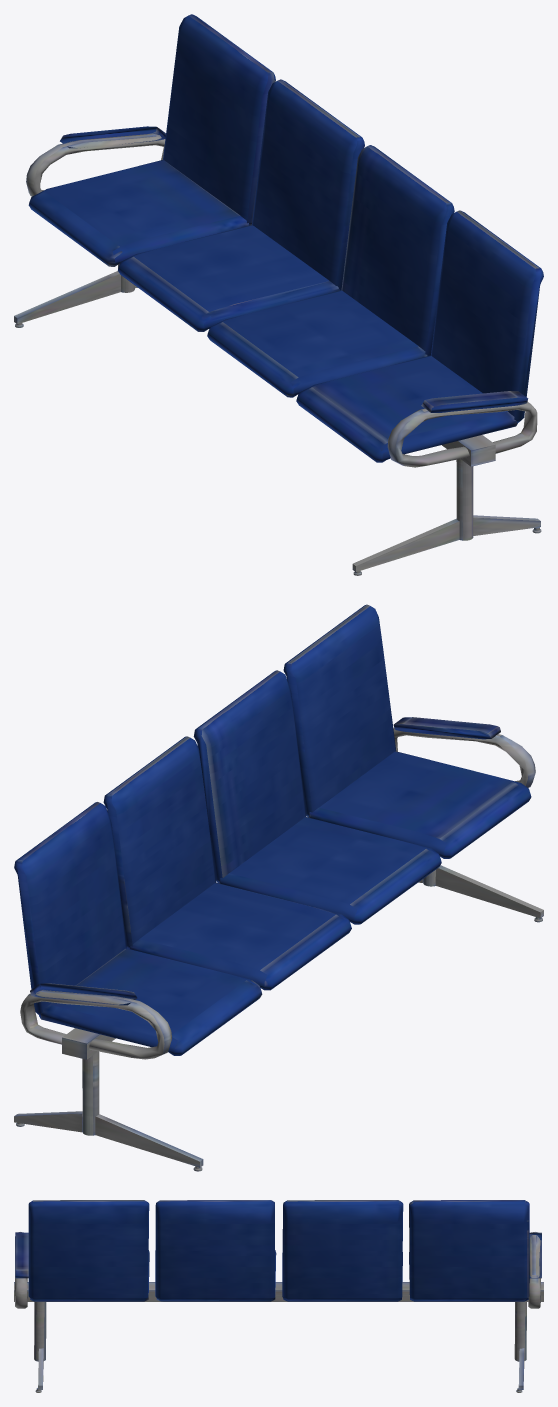
The model's file is seats-row.glb.
3 views of the same model, one above another, from view 1: azimuth 30°, elevation 25°; view 2: azimuth 150°, elevation 25°; view 3: azimuth 270°, elevation 25° (orthographic). The views are drawn at different scales.
Parts seen in each view (by area): view 1: Cylinder.007; view 2: Cylinder.007; view 3: Cylinder.007.
Boxes of the visible parts, x1,y1,x2,y2 form: Cylinder.007: (14,14,543,575); Cylinder.007: (14,604,543,1171); Cylinder.007: (14,1200,543,1392).
Bounding box in the file's own units: 0.5732 × 0.7894 × 2.
1 material, 1 textured.
